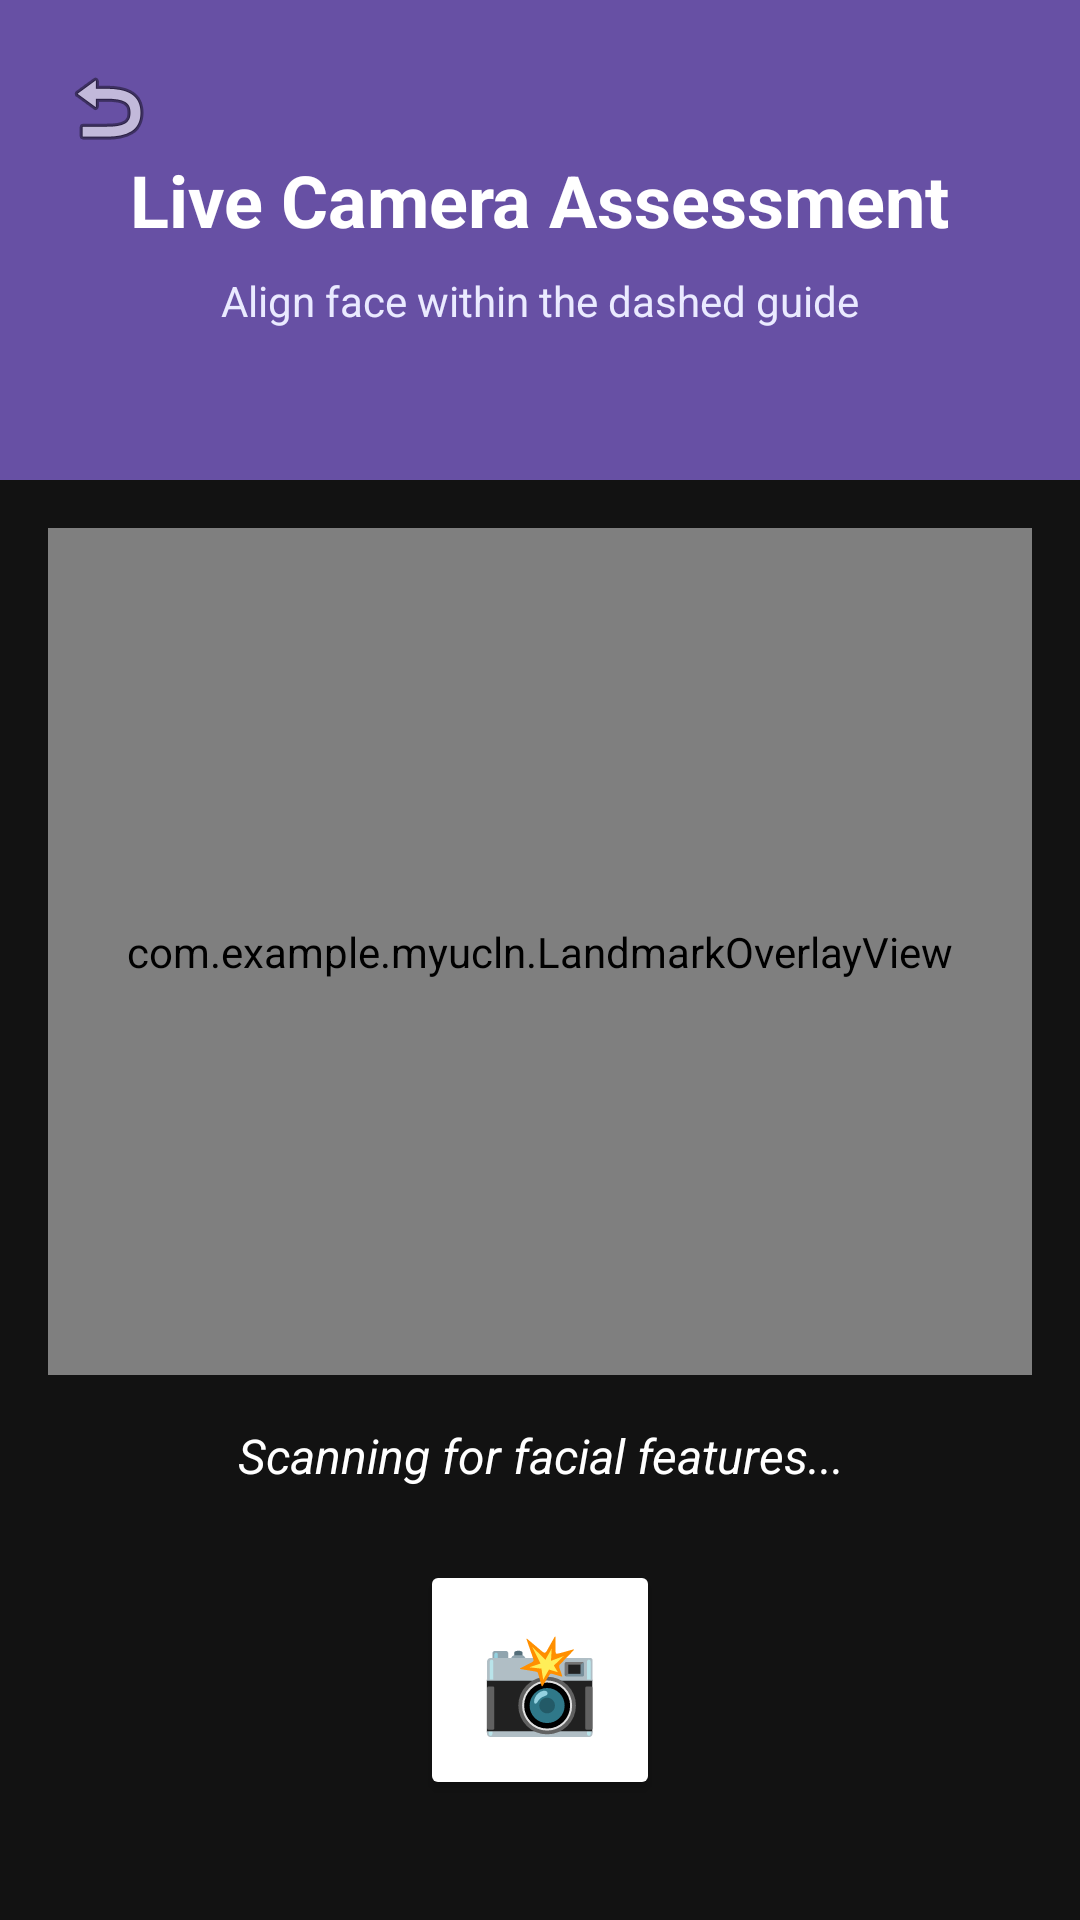

Screen size 1080 x 1920. Icon name, then its center in pixels as (x,y):
Go Back: (109,108)
